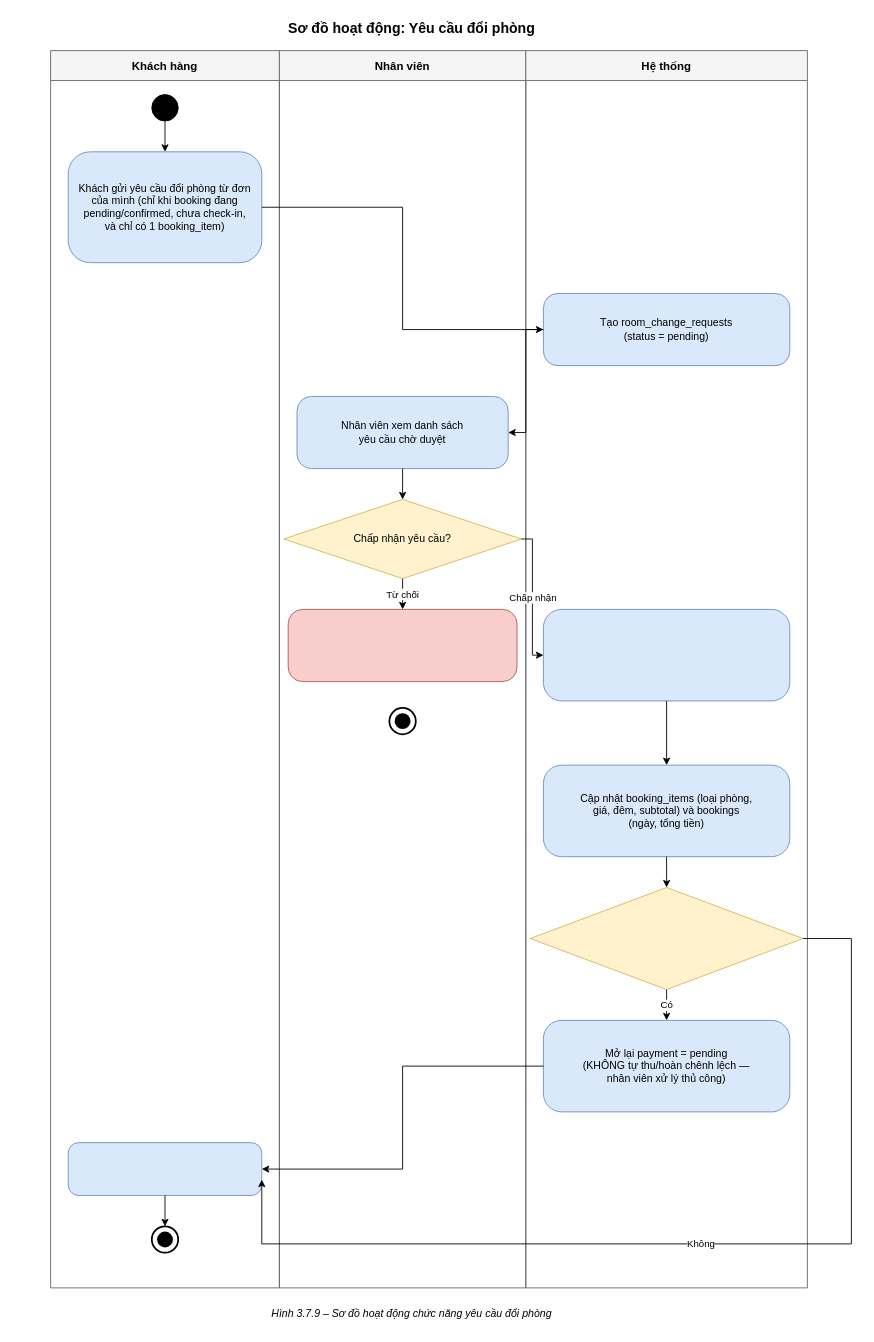
The diagram is 874 pixels wide and 1342 high, and some of its shapes have lost their labels. Here are the shapes that lost their labels. From the top down, the centre of each, then its label:
At (x=402, y=645): "reject(): status = rejected, gửi lý do từ chối cho khách".
At (x=666, y=655): "approve(): kiểm tra lại sức chứa/ phòng trống, tính lại giá qua PricingService".
At (x=666, y=938): "Giá thay đổi & đã thanh toán đủ (PAID)?".
At (x=164, y=1168): "Gửi thông báo kết quả cho khách hàng".
